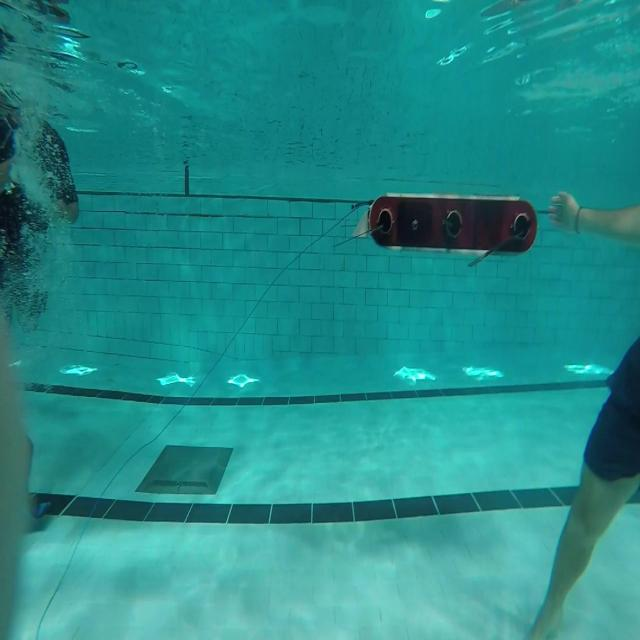human: (526, 191, 640, 638), (0, 95, 79, 637)
